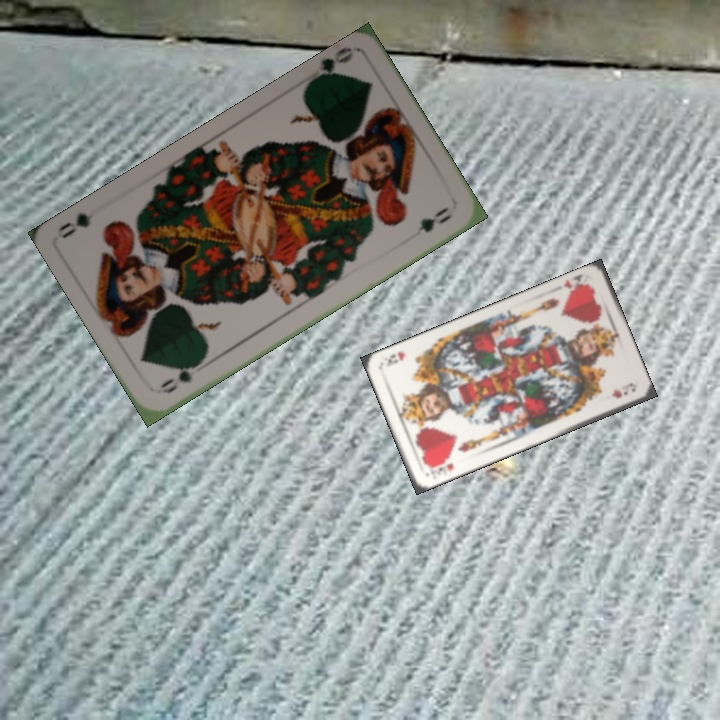GO: (305, 43, 356, 85), (155, 356, 206, 397)
HK: (560, 270, 592, 297), (427, 457, 457, 478)
